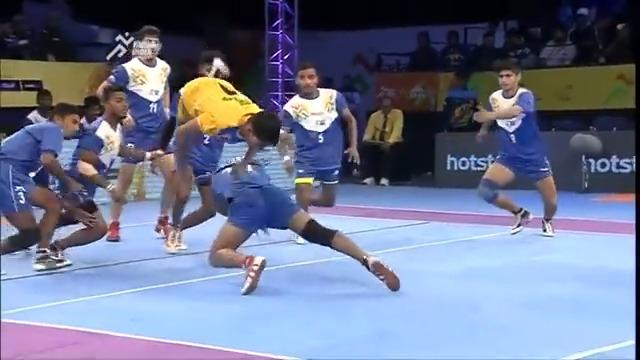Player: (205, 60, 402, 296), (470, 60, 561, 239), (277, 62, 360, 244), (5, 99, 71, 268), (118, 24, 168, 189), (83, 92, 137, 232)
Raider: (163, 61, 288, 198)
referee: (361, 94, 406, 187)
